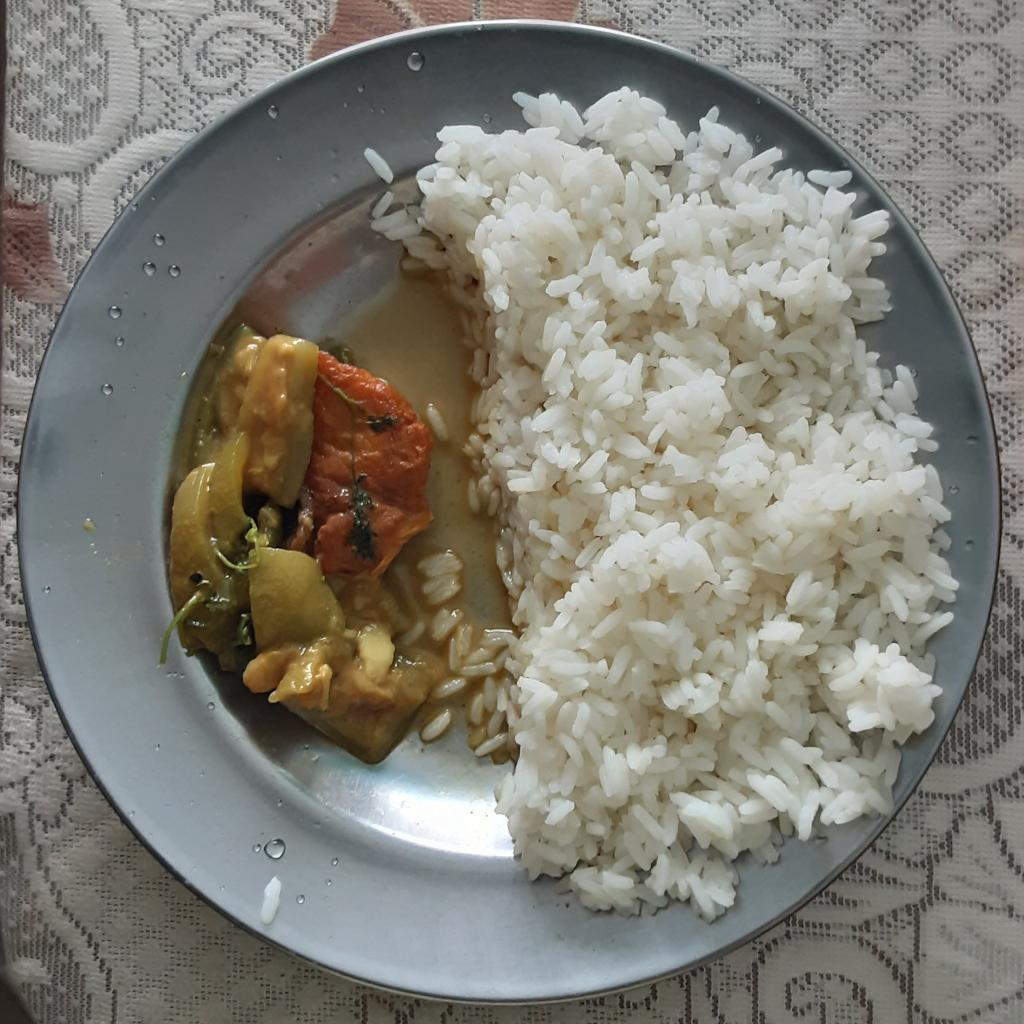dundol: (170, 324, 455, 767)
fish: (299, 347, 431, 581)
rice: (363, 89, 961, 920), (256, 879, 288, 931)
